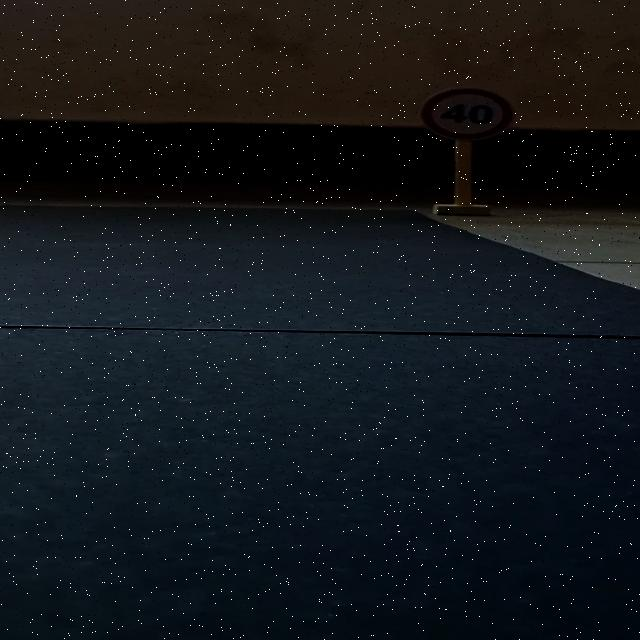Speed40: (411, 80, 528, 146)
